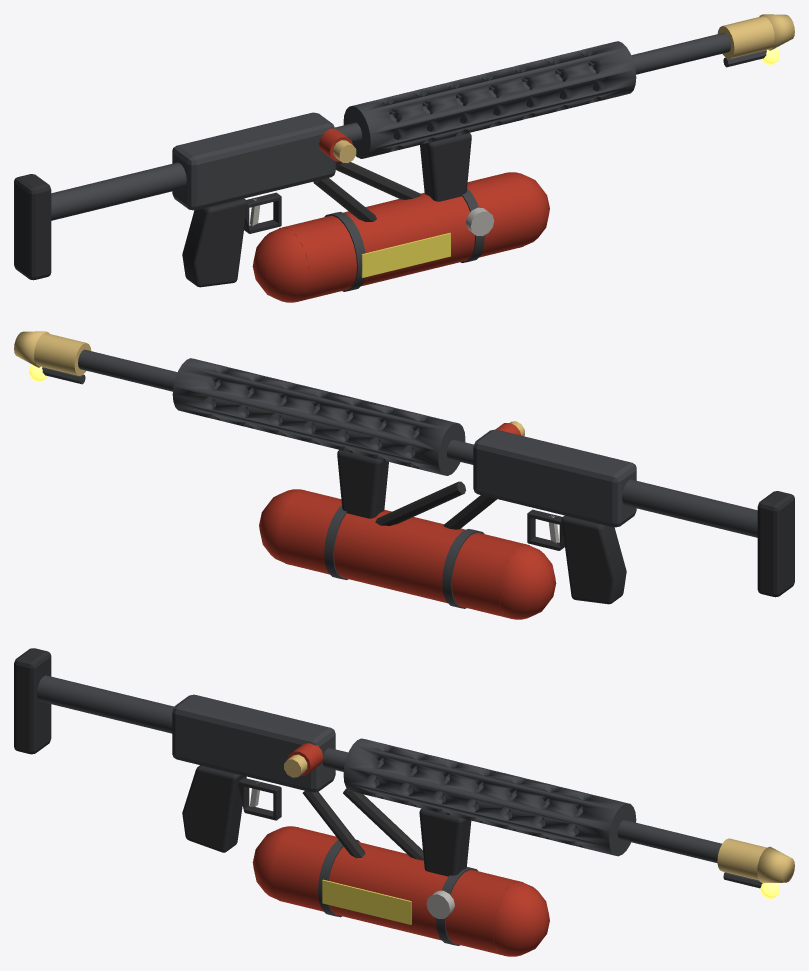
The model's file is flamer.glb.
The picture shows the model from 3 angles, top to bottom: view 1: azimuth 30°, elevation 25°; view 2: azimuth 150°, elevation 25°; view 3: azimuth 330°, elevation 25°; orthographic projection.
Parts seen in each view (by area): view 1: gun_frame, gun_mag; view 2: gun_frame, gun_mag; view 3: gun_frame, gun_mag.
Part boxes in pixels (box(x1,y1,x2,y2)): gun_frame: box(14, 14, 794, 287); gun_mag: box(252, 172, 549, 302); gun_frame: box(14, 331, 794, 604); gun_mag: box(259, 489, 556, 619); gun_frame: box(14, 648, 794, 898); gun_mag: box(252, 826, 549, 956).
Bounding box in the file's own units: 1.04 × 0.237 × 0.112.
